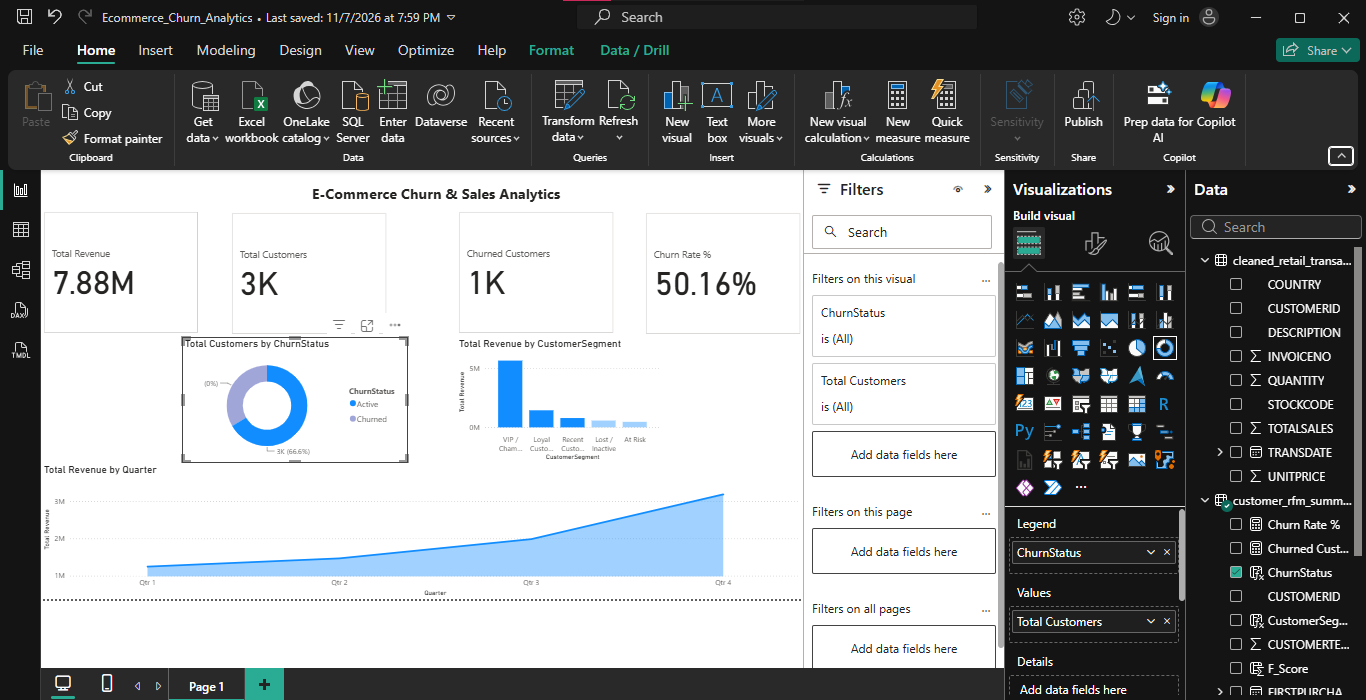

Layout of this report page (visuals, bound fields, positions):
{"tool":"powerbi","page":{"name":"Page 1","canvas":[1280,720],"ordinal":0},"visuals":[{"type":"cardVisual","fields":{"Data":["customer_rfm_summary.Total Revenue"]},"box":[0,65.5,268.8,213.3],"z":0},{"type":"cardVisual","fields":{"Data":["customer_rfm_summary.Total Customers"]},"box":[315.8,67.2,269,213],"z":1000},{"type":"cardVisual","fields":{"Data":["customer_rfm_summary.Churned Customers"]},"box":[697.1,65.5,269,213],"z":2000},{"type":"cardVisual","fields":{"Data":["customer_rfm_summary.Churn Rate %"]},"box":[1011.2,67.2,269,213],"z":3000},{"type":"donutChart","fields":{"Category":["customer_rfm_summary.ChurnStatus"],"Y":["customer_rfm_summary.Total Customers"]},"box":[236.9,280.5,379.6,211.7],"z":3001},{"type":"clusteredColumnChart","fields":{"Category":["customer_rfm_summary.CustomerSegment"],"Y":["customer_rfm_summary.Total Revenue"]},"box":[697.1,280.5,347.7,211.7],"z":3002},{"type":"areaChart","fields":{"Category":["cleaned_retail_transactions.TRANSDATE.Variation.Date Hierarchy.Year","cleaned_retail_transactions.TRANSDATE.Variation.Date Hierarchy.Quarter","cleaned_retail_transactions.TRANSDATE.Variation.Date Hierarchy.Month","cleaned_retail_transactions.TRANSDATE.Variation.Date Hierarchy.Day"],"Y":["customer_rfm_summary.Total Revenue"]},"box":[0,492.2,1280,228.5],"z":3003},{"type":"textbox","box":[450.2,18.5,811.3,48.7],"z":3004}]}

Visuals, with their boxes on the page's 1280x720 design canvas (x1, y1, x2, y2). These are canvas units, not pixel positions in the 1366x700 screenshot, which may show the page scaled, cropped or inside an application window:
cardVisual - customer_rfm_summary.Total Revenue: 0,66,269,279
cardVisual - customer_rfm_summary.Total Customers: 316,67,585,280
cardVisual - customer_rfm_summary.Churned Customers: 697,66,966,278
cardVisual - customer_rfm_summary.Churn Rate %: 1011,67,1280,280
donutChart - customer_rfm_summary.ChurnStatus x customer_rfm_summary.Total Customers: 237,280,616,492
clusteredColumnChart - customer_rfm_summary.CustomerSegment x customer_rfm_summary.Total Revenue: 697,280,1045,492
areaChart - cleaned_retail_transactions.TRANSDATE.Variation.Date Hierarchy.Year x cleaned_retail_transactions.TRANSDATE.Variation.Date Hierarchy.Quarter: 0,492,1280,721
textbox: 450,18,1262,67
